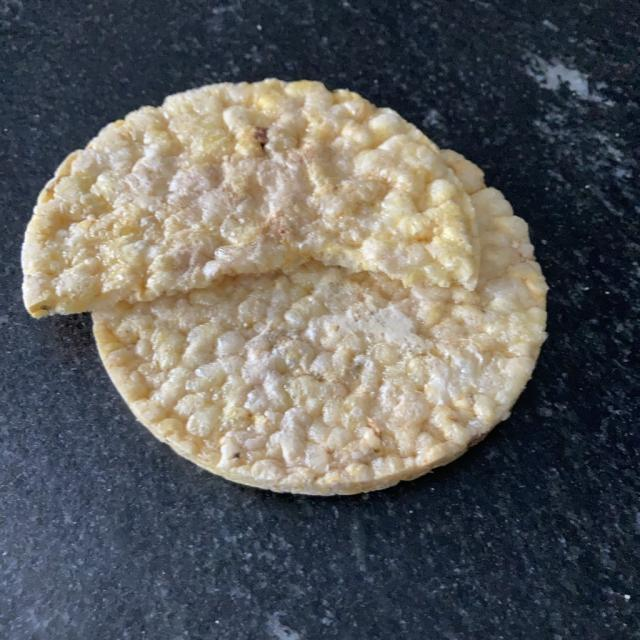rice: (30, 87, 541, 487)
